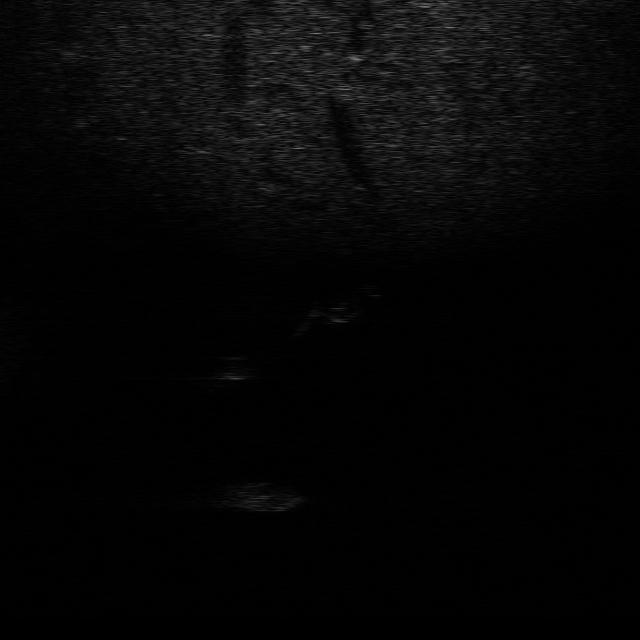ball: (208, 351, 264, 384)
circle cage: (199, 474, 309, 514)
human body: (290, 285, 386, 338)
